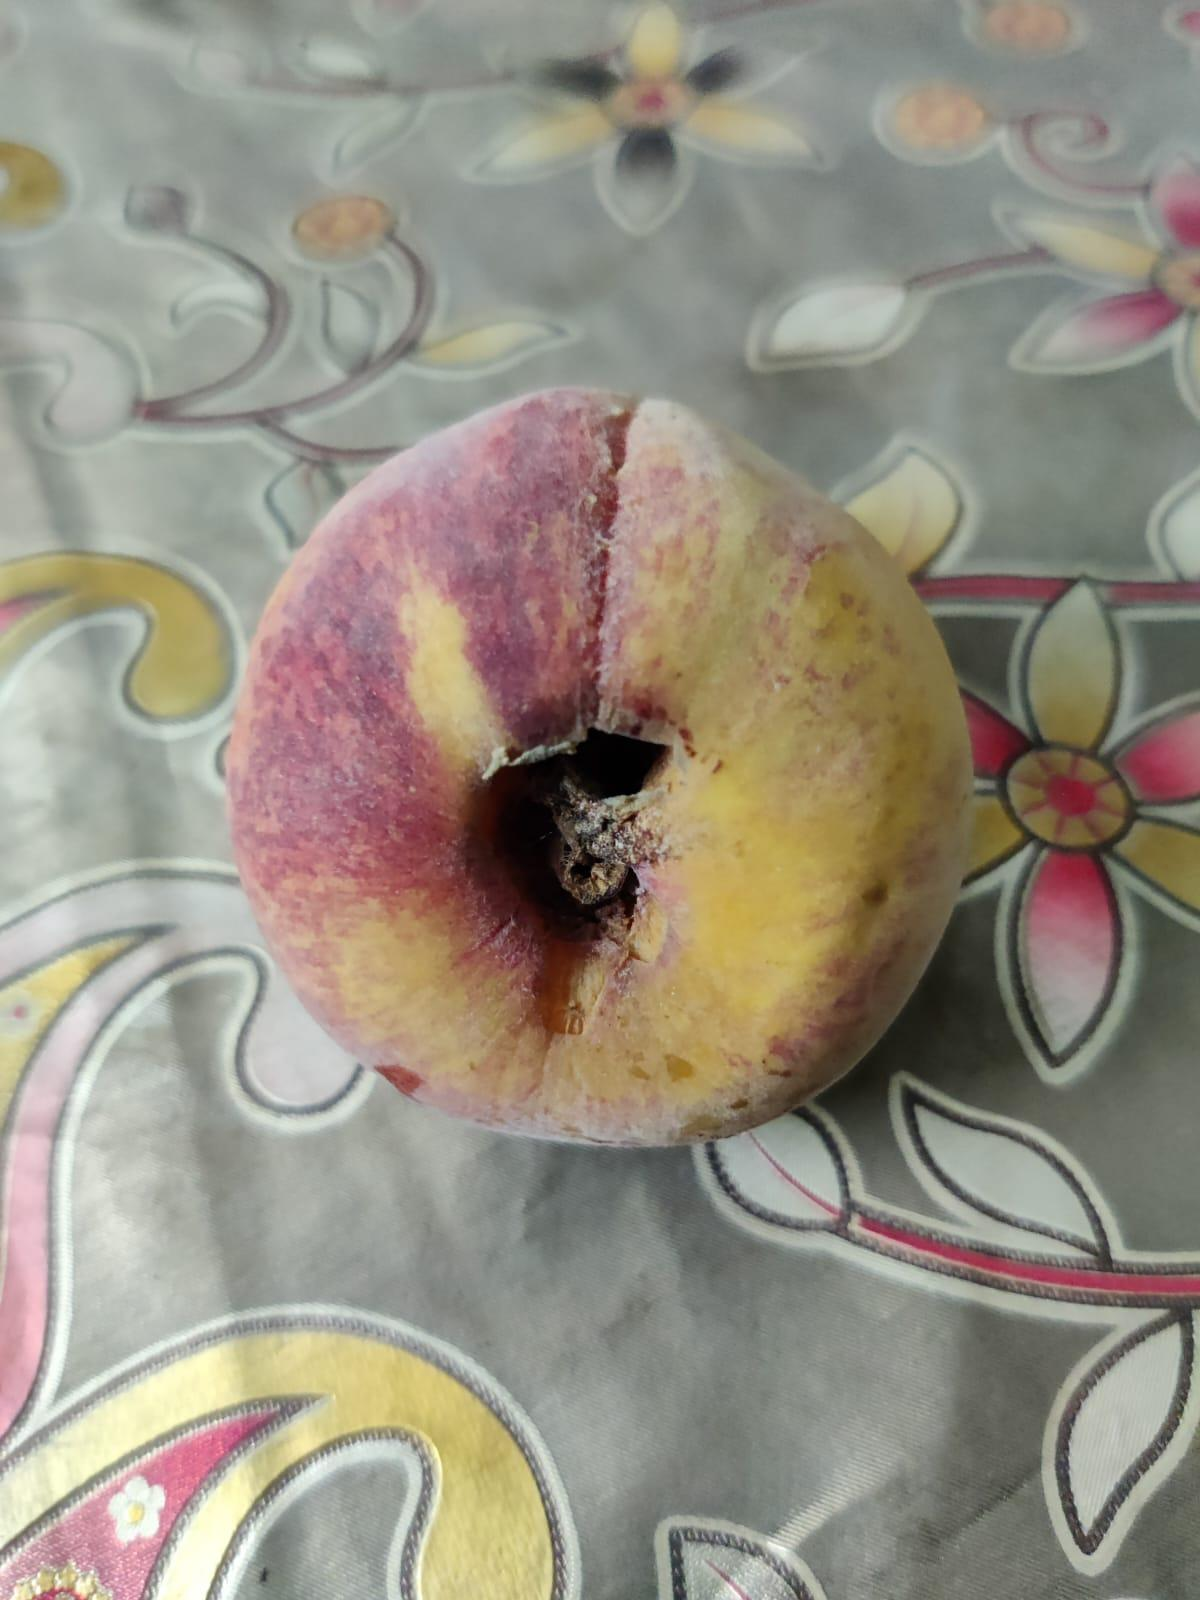non-mango: (229, 392, 989, 1158)
